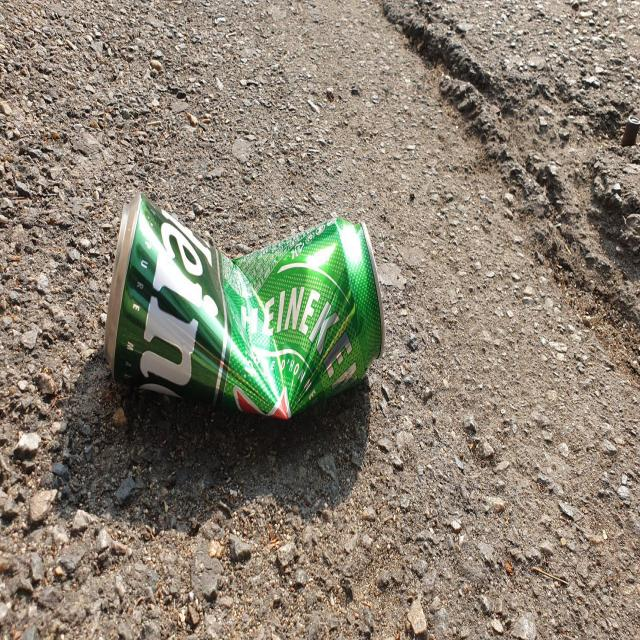can: (104, 192, 385, 419)
